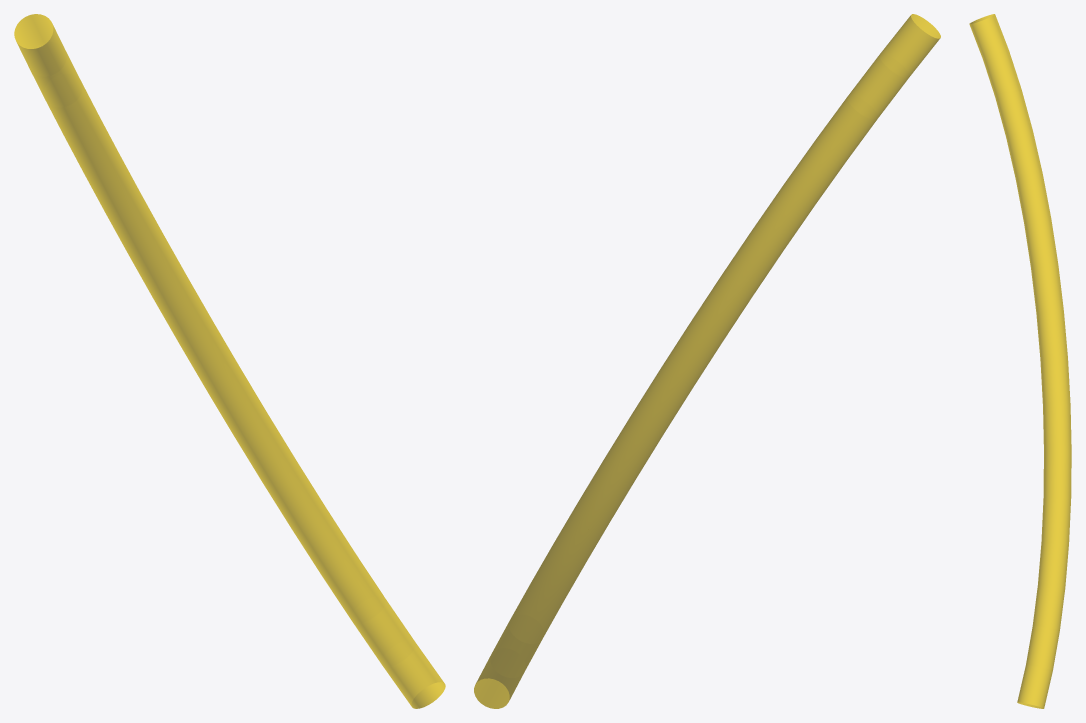
The model's file is Event_84804159_track_94.fbx.
3 renders of one model, left to right at view 1: azimuth 30°, elevation 25°; view 2: azimuth 150°, elevation 25°; view 3: azimuth 270°, elevation 25°, orthographic. The views are drawn at different scales.
Parts seen in each view (by area): view 1: Model; view 2: Model; view 3: Model.
Boxes of the visible parts, <box> form: Model: <box>14,14,445,708</box>; Model: <box>474,14,940,708</box>; Model: <box>969,14,1071,708</box>.
Size of the model in its own units: 0.5257 by 0.8892 by 0.148.
